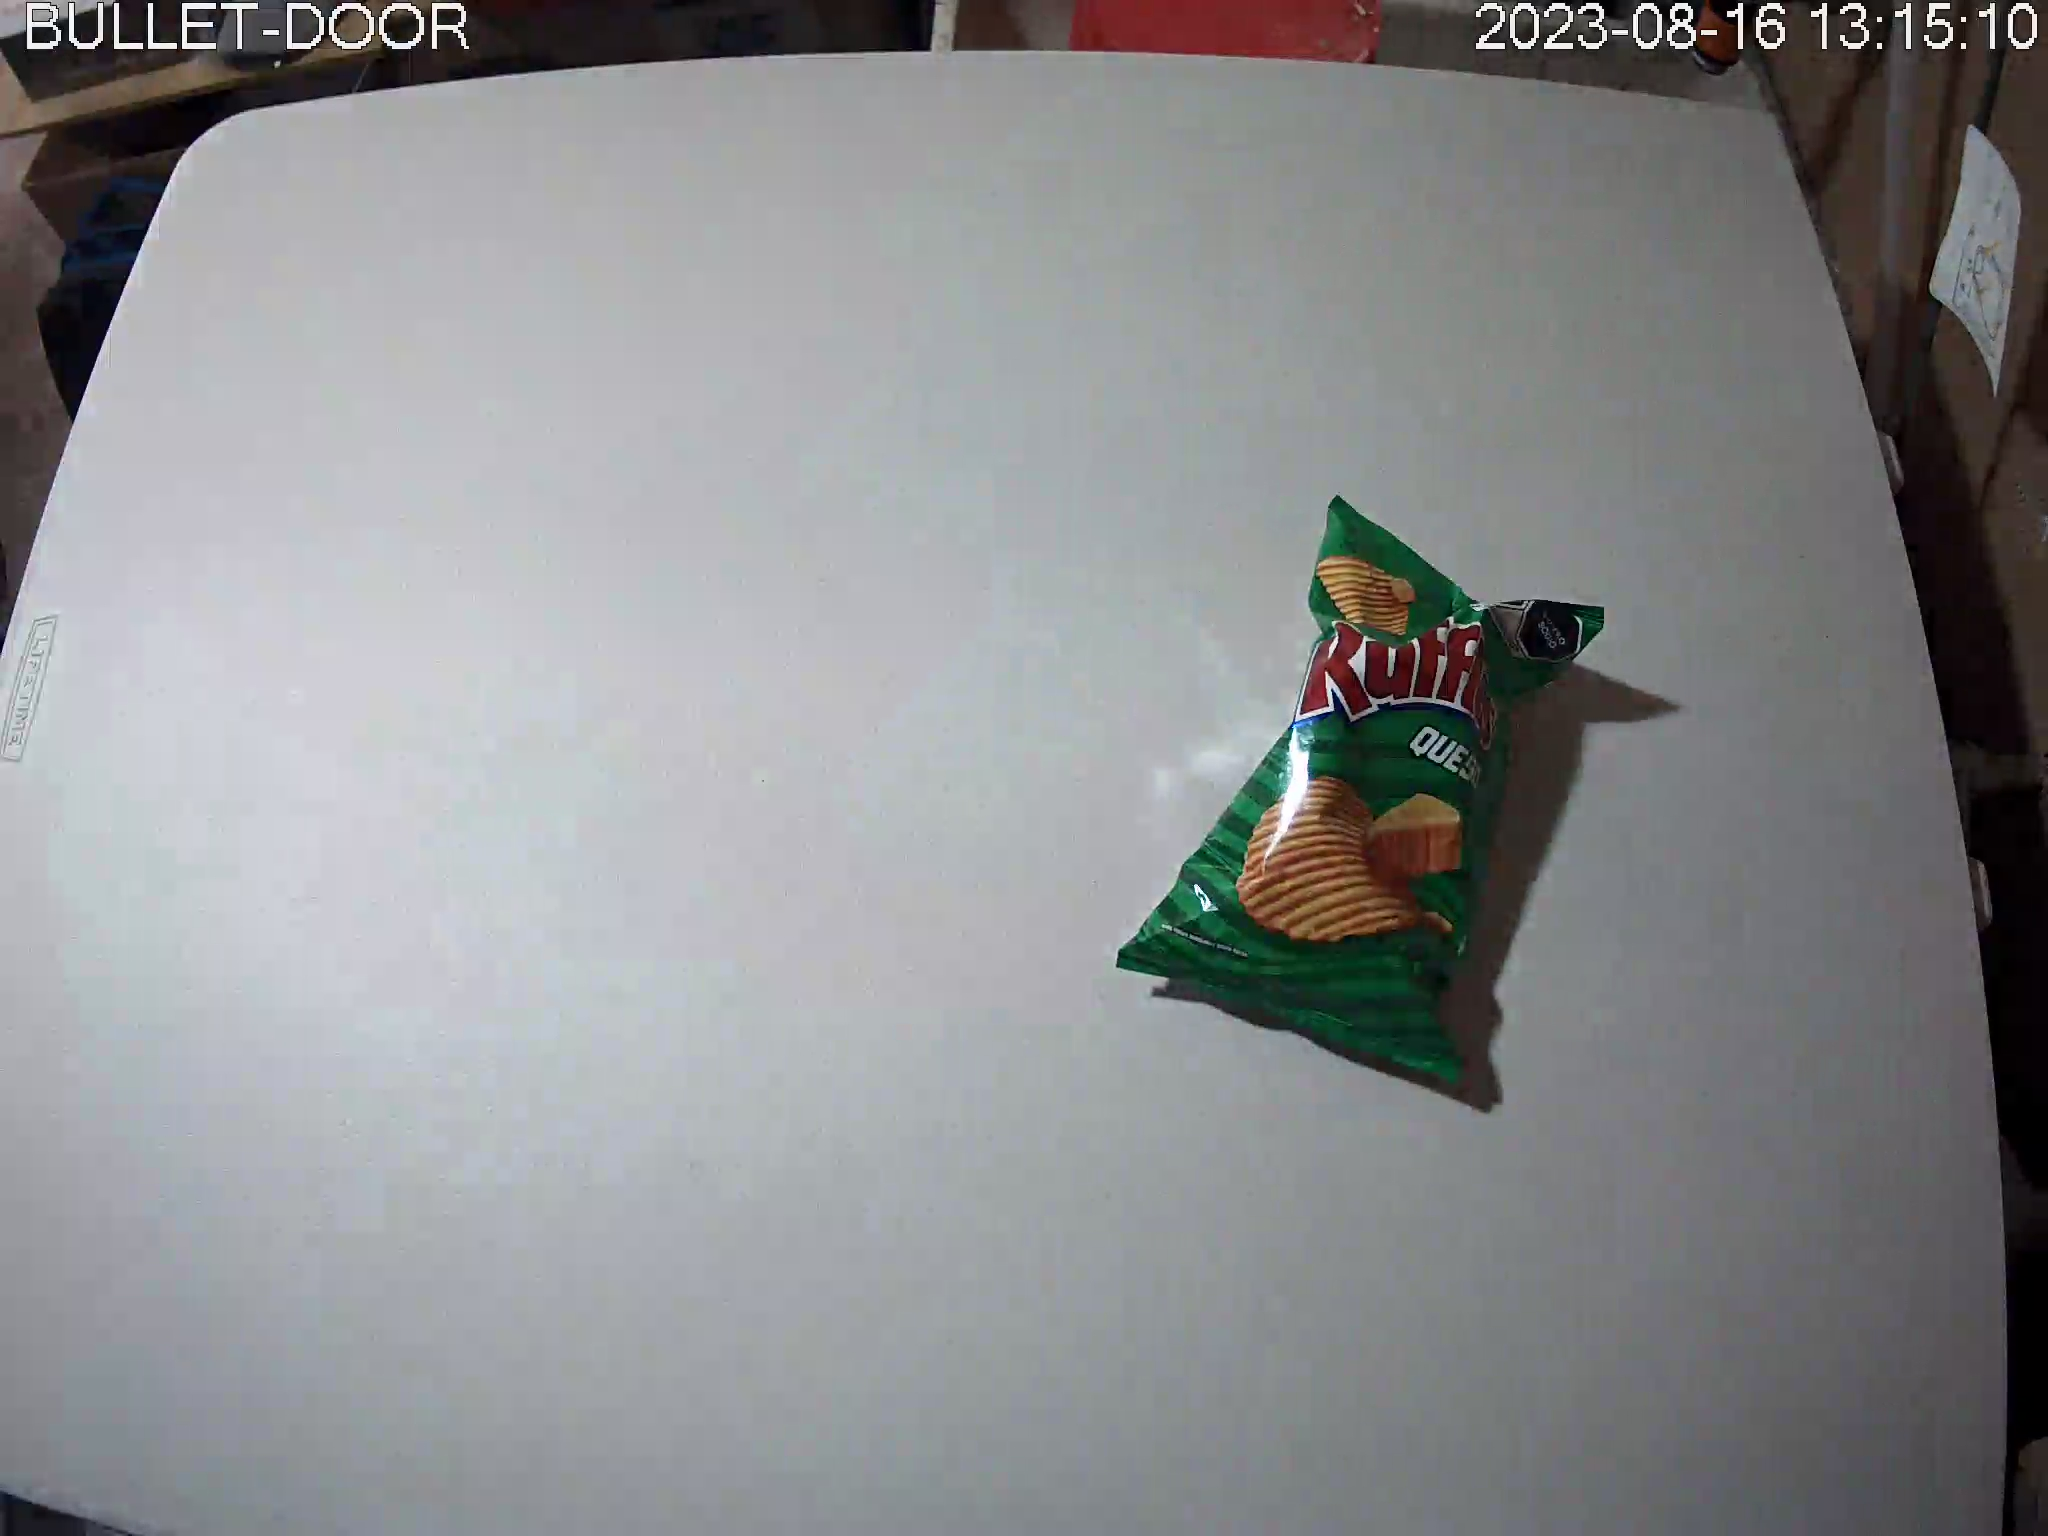RufflesQ_48_F: (1116, 490, 1606, 1099)
